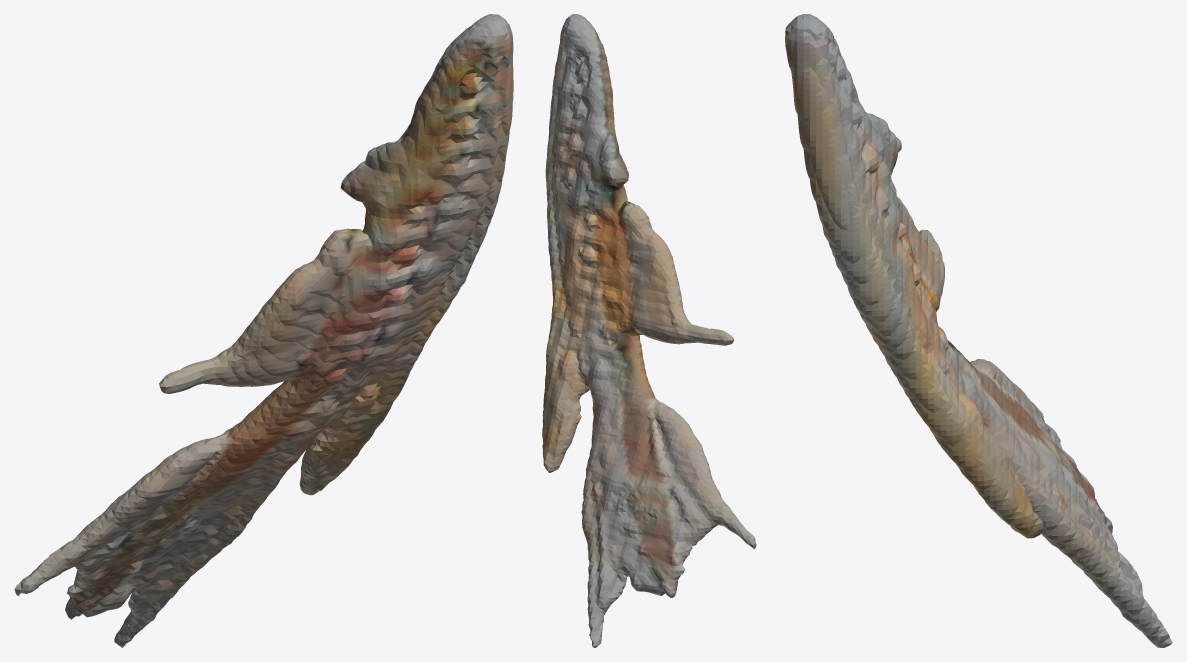
File: aphyosemion-australe.glb
3 renders of one model, left to right at view 1: azimuth 30°, elevation 25°; view 2: azimuth 150°, elevation 25°; view 3: azimuth 270°, elevation 25°, orthographic. The views are drawn at different scales.
Parts seen in each view (by area): view 1: world; view 2: world; view 3: world.
Boxes of the visible parts, x1,y1,x2,y2 form: world: (14, 14, 513, 647); world: (542, 14, 756, 647); world: (785, 14, 1172, 647).
Bounding box in the file's own units: 0.5094 × 0.8879 × 0.4258.
